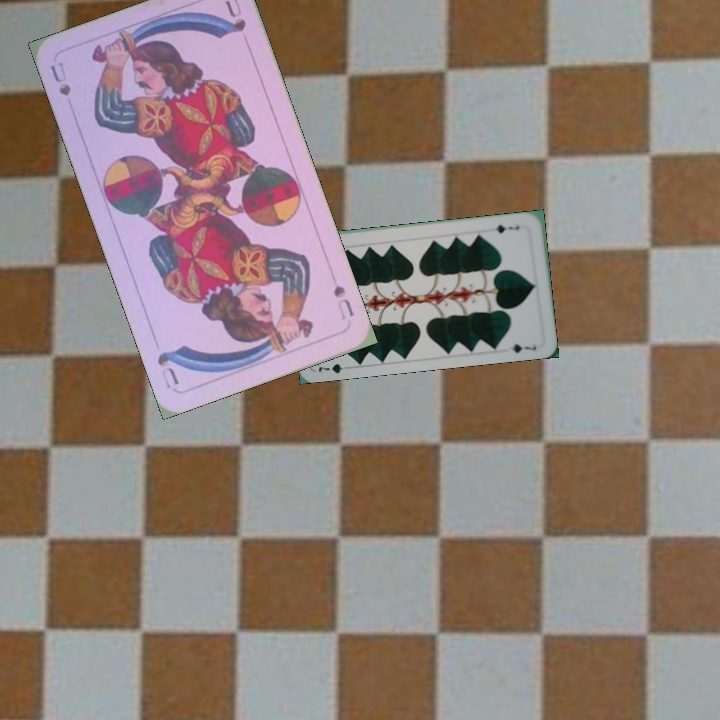G7: (314, 360, 354, 376), (491, 221, 522, 236)
SU: (329, 281, 357, 323), (46, 58, 74, 99)
